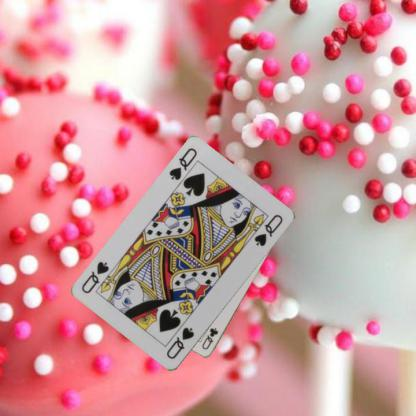Qc: (200, 326, 220, 352)
Qs: (166, 145, 199, 182), (163, 325, 196, 361)
